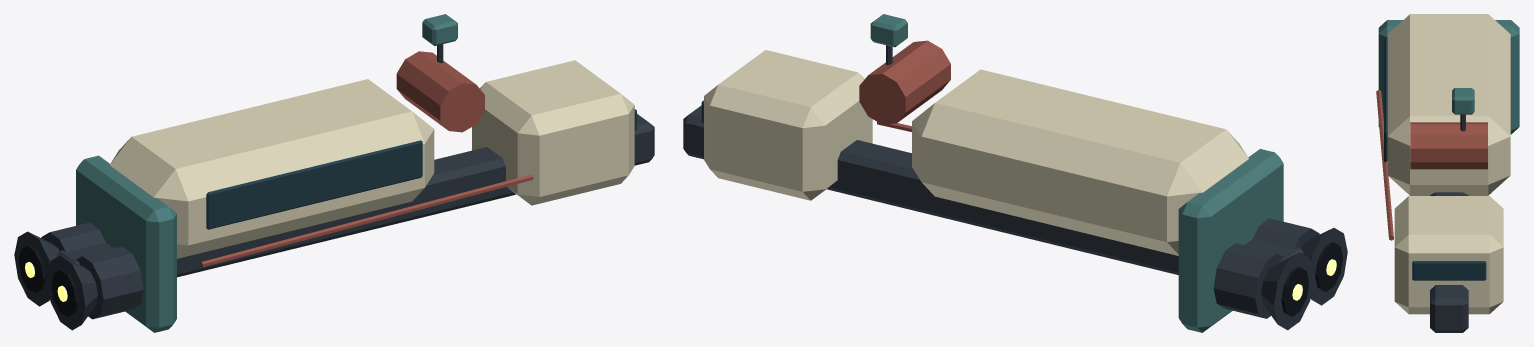
File: blue-hour.glb
The picture shows the model from 3 angles, left to right: view 1: azimuth 30°, elevation 25°; view 2: azimuth 150°, elevation 25°; view 3: azimuth 270°, elevation 25°; orthographic projection. The views are drawn at different scales.
Visible parts, largest first — view 1: restored salon, forward command, reactor shield, structural spine, panoramic glass, old winch, engine jacket, brightwork, engine bell, engine bell.001, engine jacket.001, sensor head (+2 smaller); view 2: restored salon, forward command, structural spine, reactor shield, old winch, engine jacket.001, engine bell.001, engine bell, engine jacket, sensor head, engine throat, engine throat.001; view 3: restored salon, forward command, old winch, structural spine, reactor shield, bridge glazing, brightwork, sensor head, panoramic glass.
Part boxes in pixels (x1=…): restored salon: x1=109, y1=79, x2=434, y2=258; forward command: x1=472, y1=60, x2=634, y2=205; reactor shield: x1=76, y1=155, x2=176, y2=332; structural spine: x1=57, y1=114, x2=654, y2=277; panoramic glass: x1=206, y1=140, x2=422, y2=229; old winch: x1=396, y1=51, x2=484, y2=132; engine jacket: x1=76, y1=246, x2=143, y2=319; brightwork: x1=200, y1=174, x2=533, y2=267; engine bell: x1=47, y1=255, x2=97, y2=330; engine bell.001: x1=14, y1=231, x2=59, y2=306; engine jacket.001: x1=41, y1=222, x2=105, y2=251; sensor head: x1=422, y1=14, x2=457, y2=45; restored salon: x1=912, y1=69, x2=1248, y2=255; forward command: x1=704, y1=50, x2=872, y2=200; structural spine: x1=683, y1=105, x2=1303, y2=274; reactor shield: x1=1178, y1=149, x2=1283, y2=332; old winch: x1=859, y1=40, x2=950, y2=124; engine jacket.001: x1=1213, y1=243, x2=1282, y2=318; engine bell.001: x1=1261, y1=252, x2=1311, y2=330; engine bell: x1=1301, y1=228, x2=1347, y2=305; engine jacket: x1=1253, y1=218, x2=1319, y2=248; sensor head: x1=870, y1=14, x2=907, y2=47; engine throat: x1=1315, y1=242, x2=1342, y2=291; engine throat.001: x1=1281, y1=267, x2=1308, y2=316; restored salon: x1=1387, y1=14, x2=1510, y2=195; forward command: x1=1394, y1=196, x2=1503, y2=314; old winch: x1=1410, y1=122, x2=1487, y2=169; structural spine: x1=1430, y1=192, x2=1468, y2=332; reactor shield: x1=1378, y1=20, x2=1519, y2=134; bridge glazing: x1=1412, y1=261, x2=1486, y2=280; brightwork: x1=1376, y1=90, x2=1393, y2=240; sensor head: x1=1452, y1=88, x2=1474, y2=114; panoramic glass: x1=1384, y1=38, x2=1387, y2=162.
Bounding box in the file's own units: 8.73 × 2.79 × 2.03.
